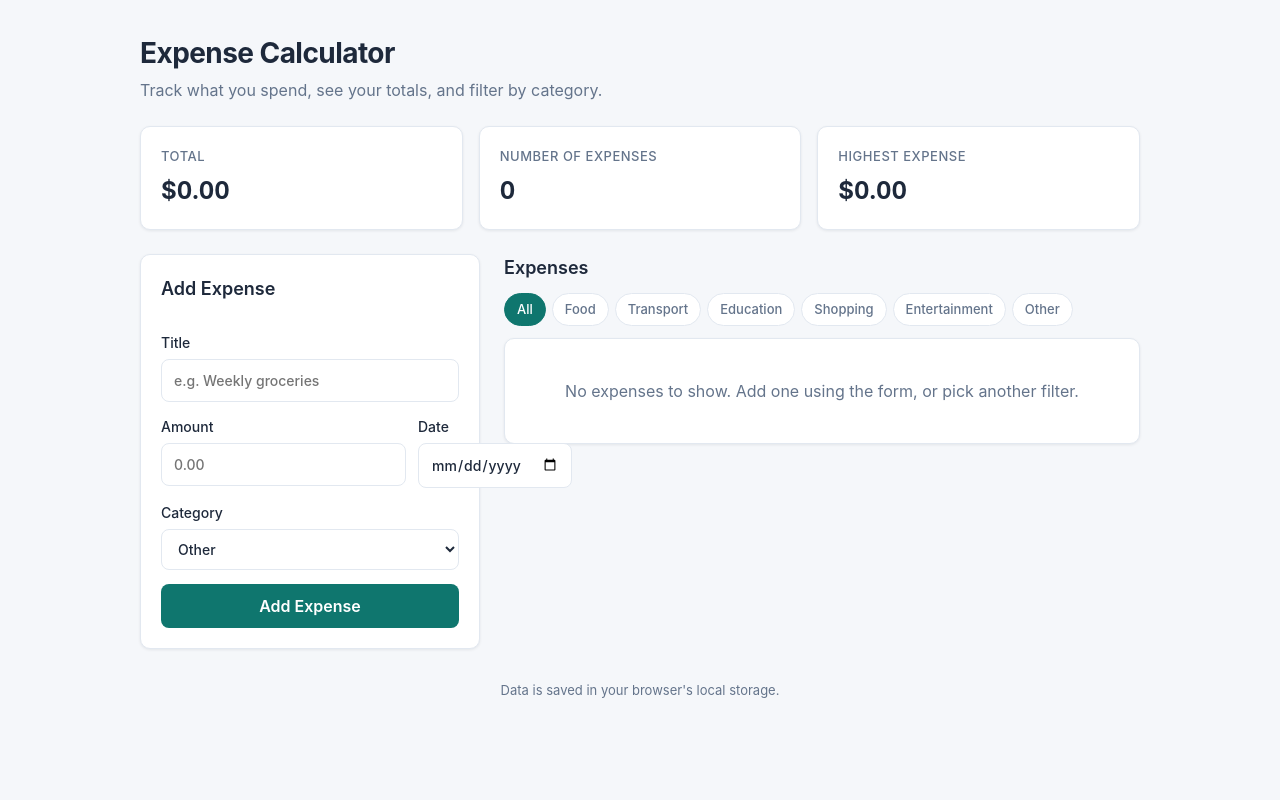
it: App integration › shows validation errors and does not save invalid input
Click the button "Add Expense" at (310, 606), box left=161, top=584, right=459, bottom=628
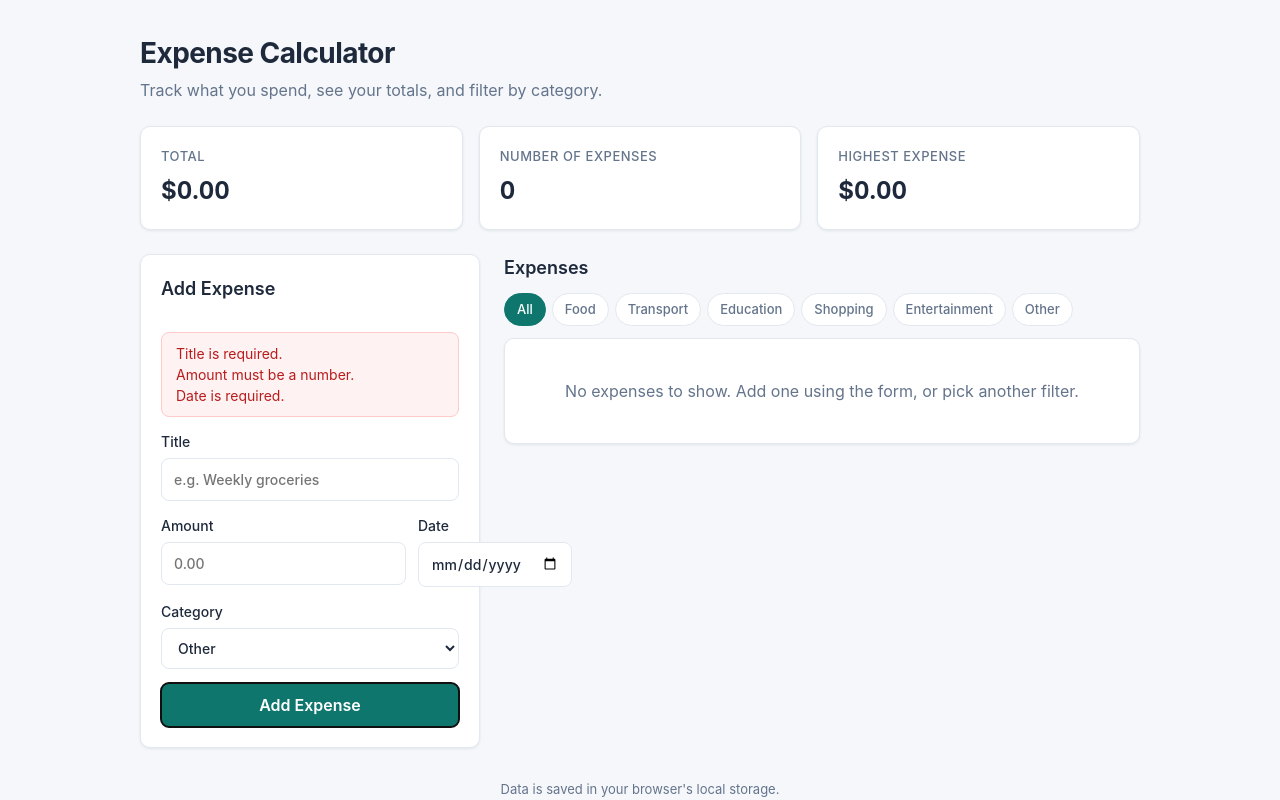
Check: the message shows "Title is required", box left=176, top=344, right=282, bottom=362
